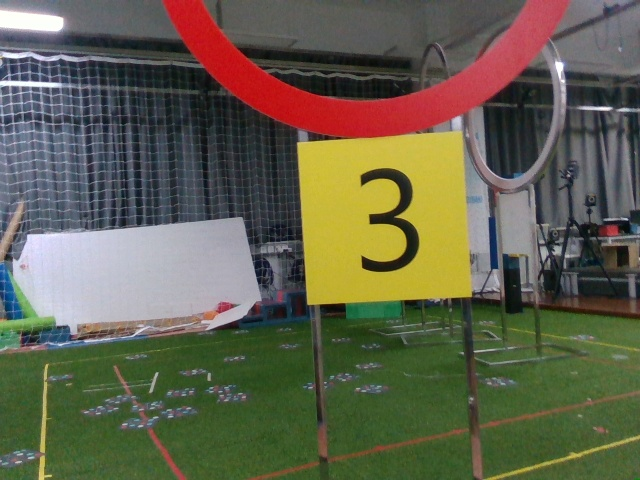target: (304, 145, 460, 294)
